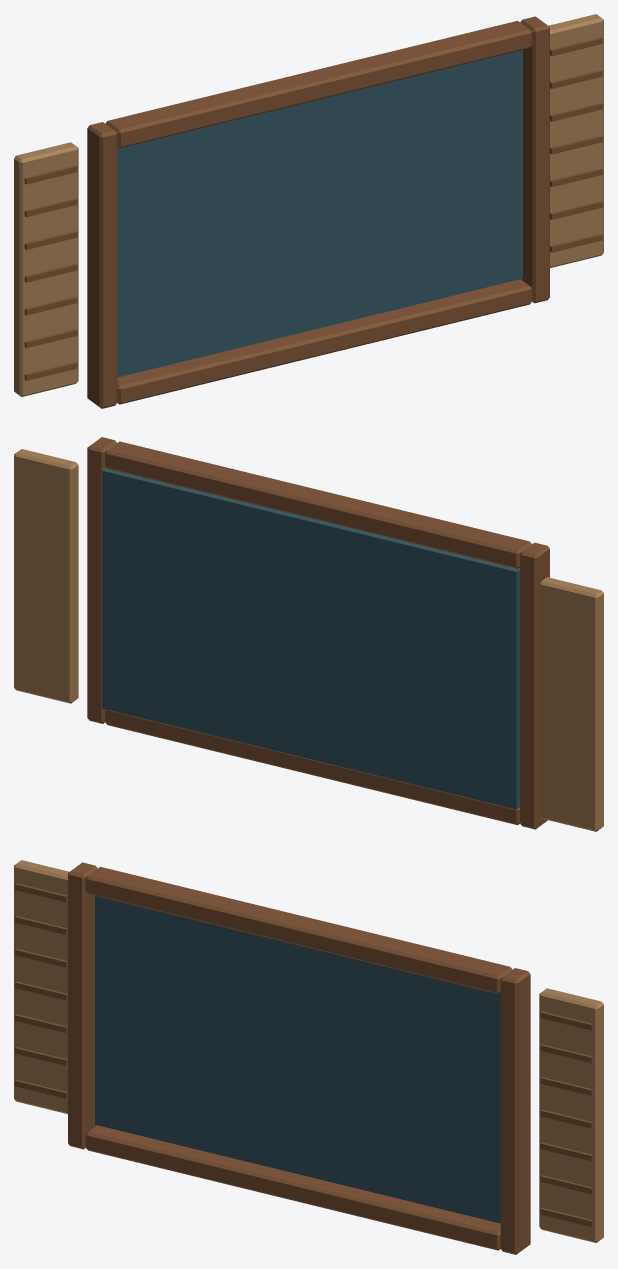
Rendered from window_08.glb.
3 renders of one model, top to bottom at view 1: azimuth 30°, elevation 25°; view 2: azimuth 150°, elevation 25°; view 3: azimuth 330°, elevation 25°, orthographic.
Visible parts, largest first — view 1: window_08; view 2: window_08; view 3: window_08.
Part boxes in pixels (x1,y1,x2,y2): window_08: (14, 14, 603, 408); window_08: (14, 437, 603, 831); window_08: (14, 860, 603, 1254).
Bounding box in the file's own units: 2.96 × 1.33 × 0.185.
